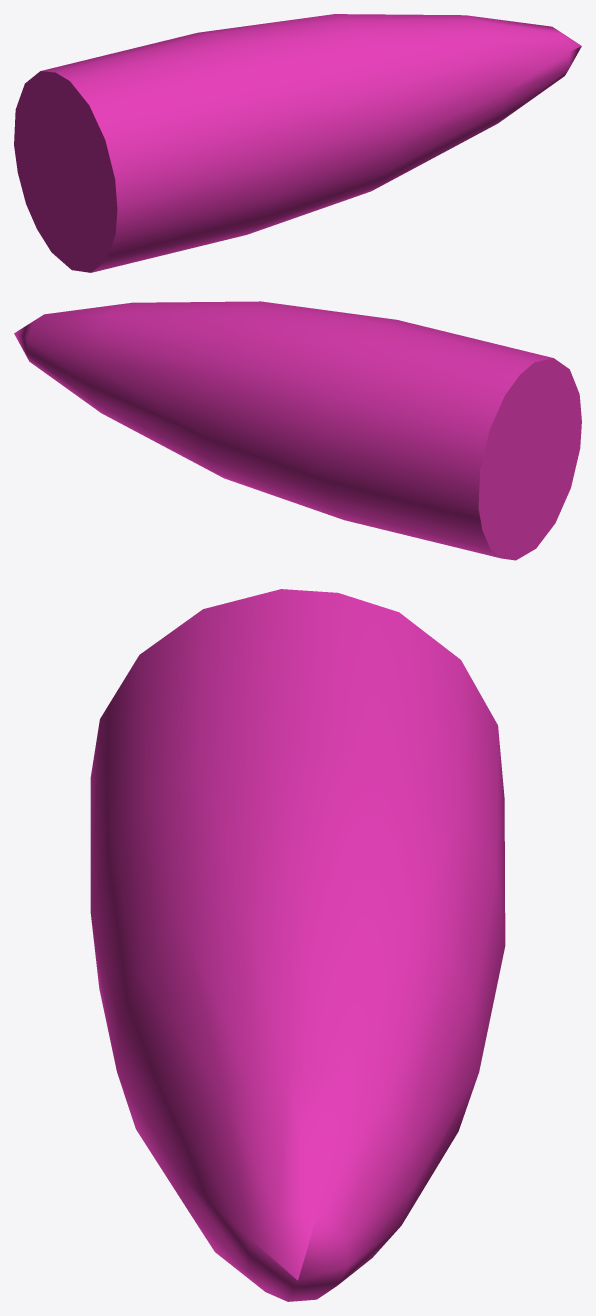
Rendered from bala_antimateria.obj.
3 views of the same model, one above another, from view 1: azimuth 30°, elevation 25°; view 2: azimuth 150°, elevation 25°; view 3: azimuth 270°, elevation 25° (orthographic). The views are drawn at different scales.
Bounding box in the file's own units: 0.0656 × 0.0228 × 0.0228.
